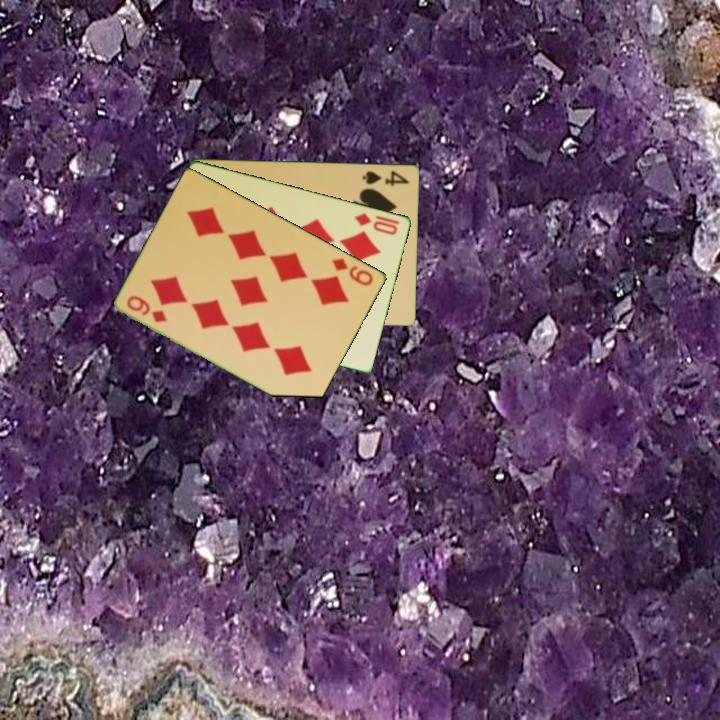10d: (351, 209, 401, 237)
4s: (359, 167, 412, 189)
9d: (329, 254, 377, 289), (123, 292, 170, 325)
